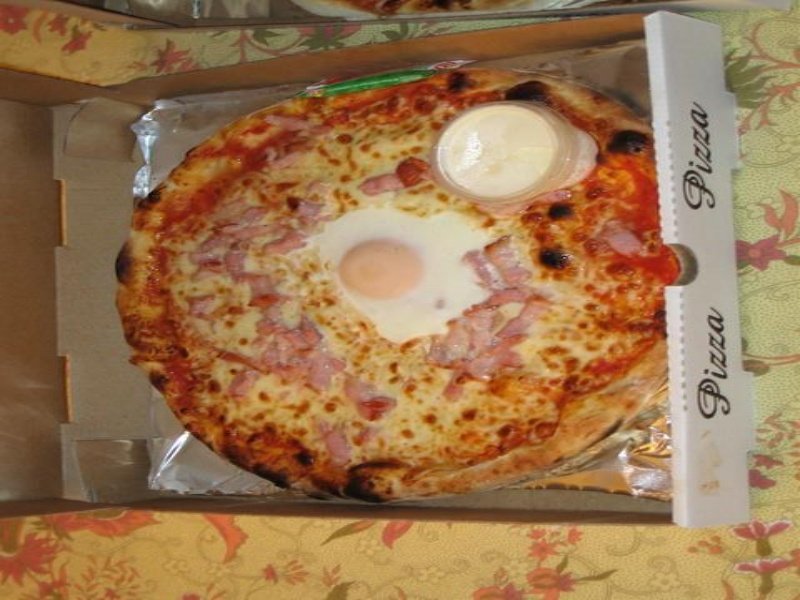oeuf: (326, 232, 454, 312)
